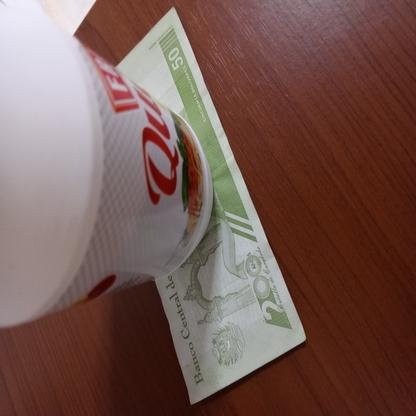fifty-back-vef: (113, 4, 307, 406)
